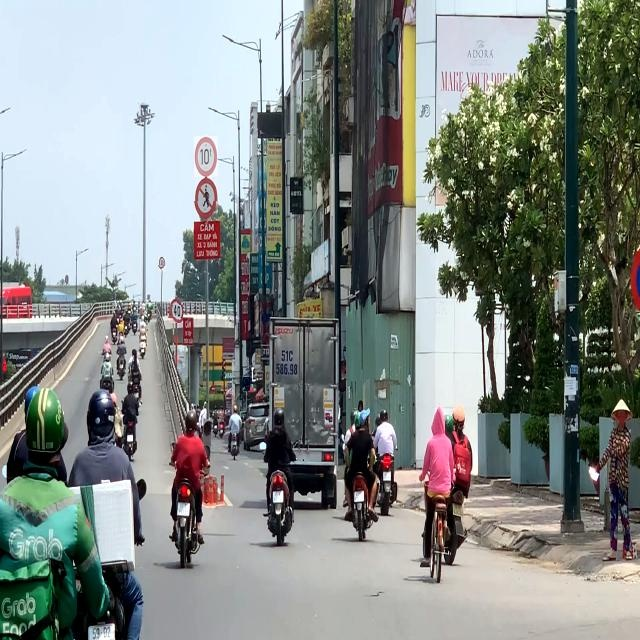bien_cam: (194, 136, 218, 177), (194, 178, 218, 218), (169, 298, 183, 323), (158, 258, 166, 272), (243, 378, 250, 392)
